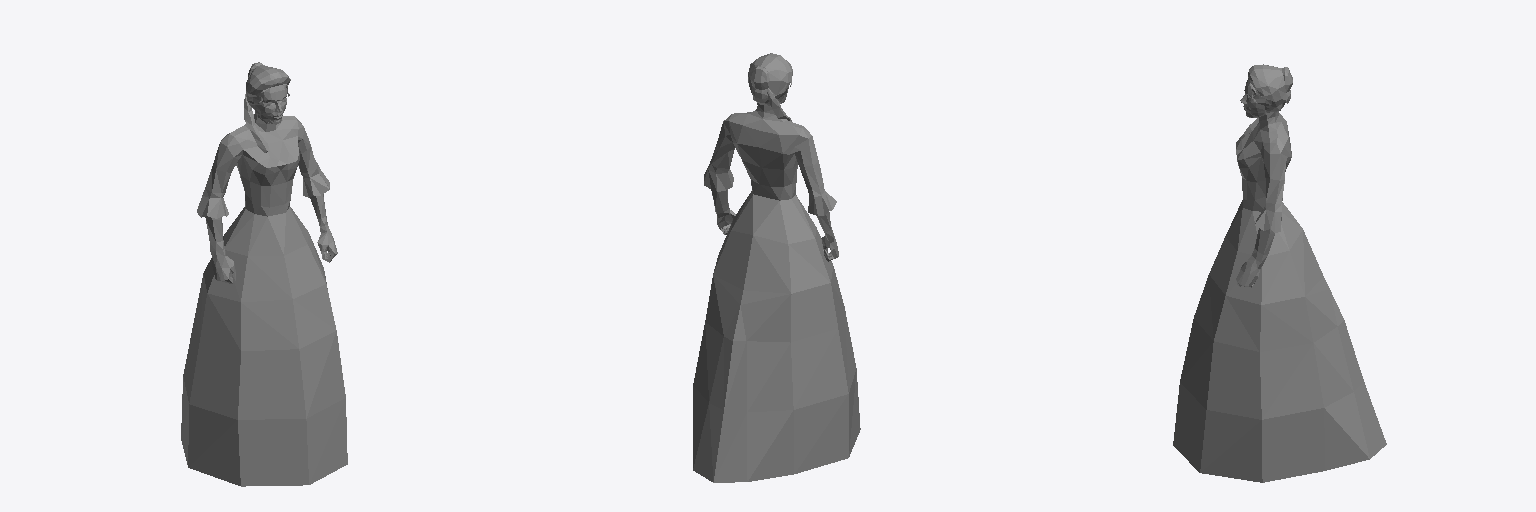
File: woman.obj
3 renders of one model, left to right at view 1: azimuth 30°, elevation 25°; view 2: azimuth 150°, elevation 25°; view 3: azimuth 270°, elevation 25°, orthographic.
Visible parts, largest first — view 1: objHand_right_hi1; view 2: objHand_right_hi1; view 3: objHand_right_hi1.
Part boxes in pixels (left/top/right/bottom): objHand_right_hi1: left=181, top=62, right=347, bottom=486; objHand_right_hi1: left=693, top=53, right=860, bottom=482; objHand_right_hi1: left=1173, top=64, right=1386, bottom=482.
Size of the model in its own units: 6.71 by 16.54 by 8.36.